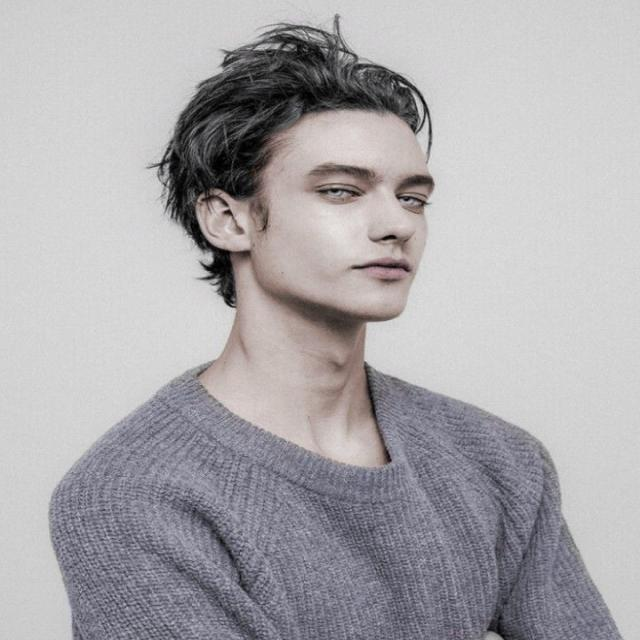front: (253, 137, 444, 306)
